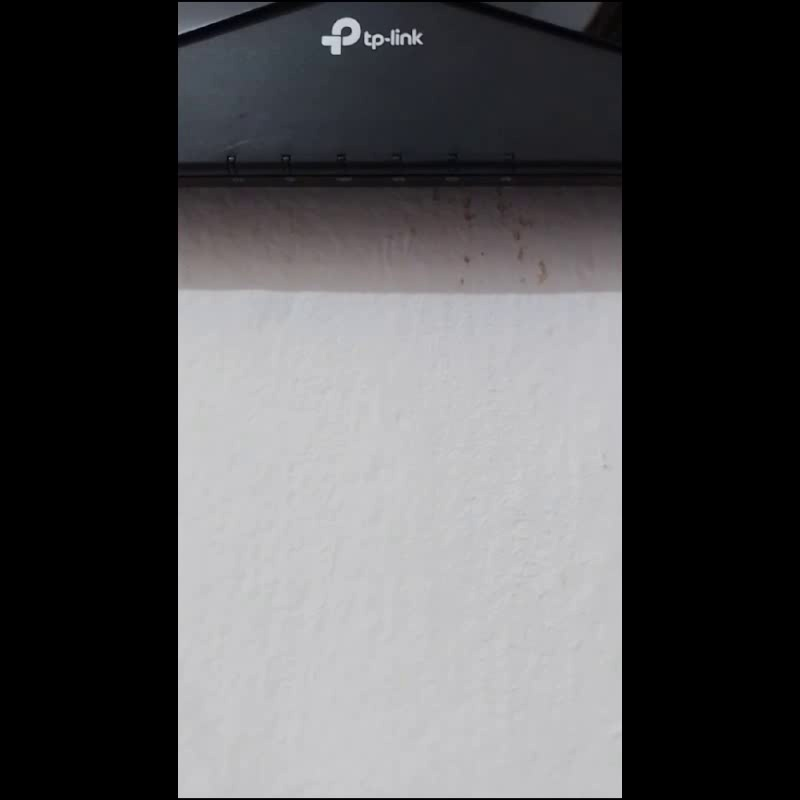off: (446, 150, 457, 171), (391, 150, 402, 171), (503, 151, 513, 172), (226, 153, 237, 172), (336, 152, 346, 171), (280, 154, 291, 171)
